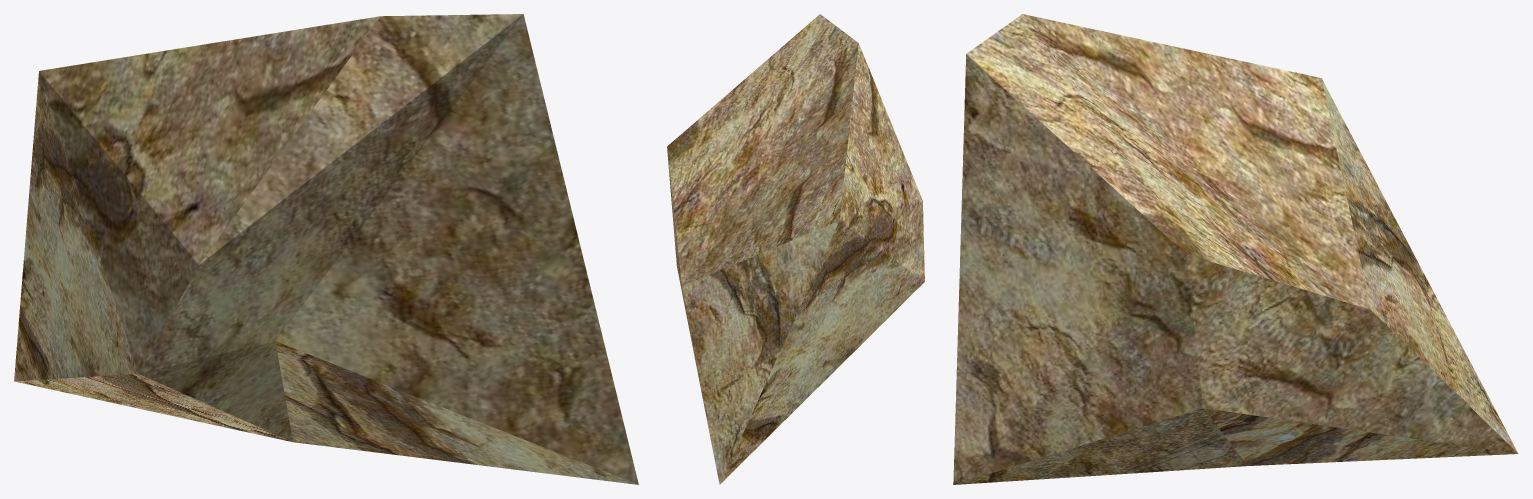
File: rock17.fbx
3 views of the same model, side by side, from view 1: azimuth 30°, elevation 25°; view 2: azimuth 150°, elevation 25°; view 3: azimuth 270°, elevation 25° (orthographic). The views are drawn at different scales.
Visible parts, largest first — view 1: Rock17; view 2: Rock17; view 3: Rock17.
Part boxes in pixels (<box>): Rock17: <box>14,14,638,484</box>; Rock17: <box>667,14,924,484</box>; Rock17: <box>953,14,1518,484</box>.
Bounding box in the file's own units: 10.56 × 13.47 × 14.92.
